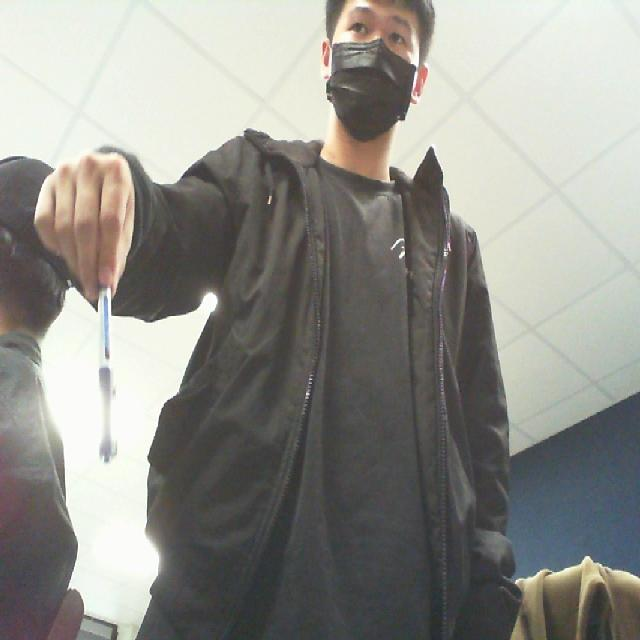Pen: (56, 240, 136, 500)
